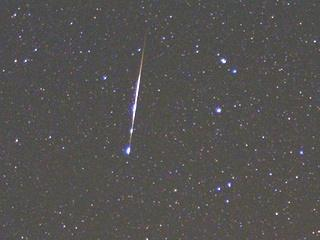meteorite: (125, 27, 156, 141)
